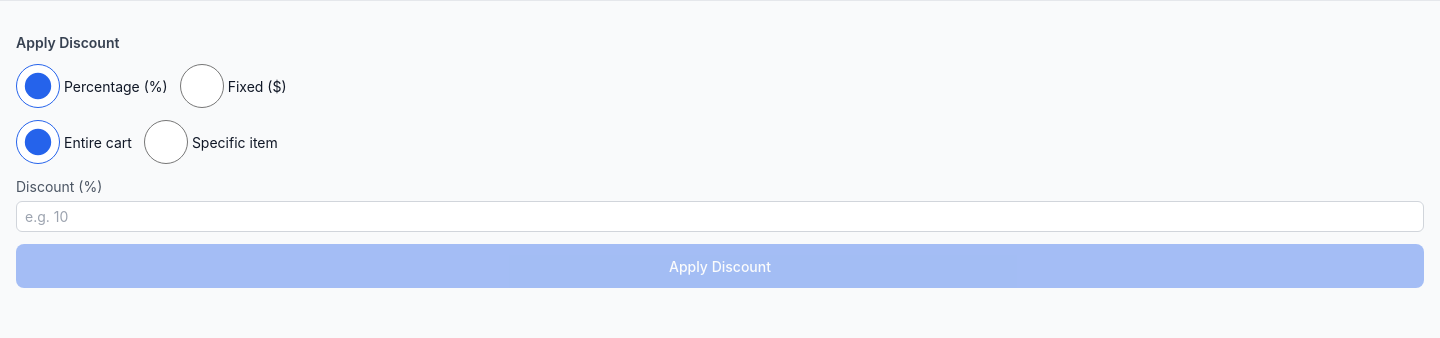
Test: ConnectedDiscountPanel – store integration › apply button is enabled when cart has items and a value is entered
Type "10" into the number field named "discount percentage".
click(720, 217); type("10")  # box [16, 201, 1424, 232]
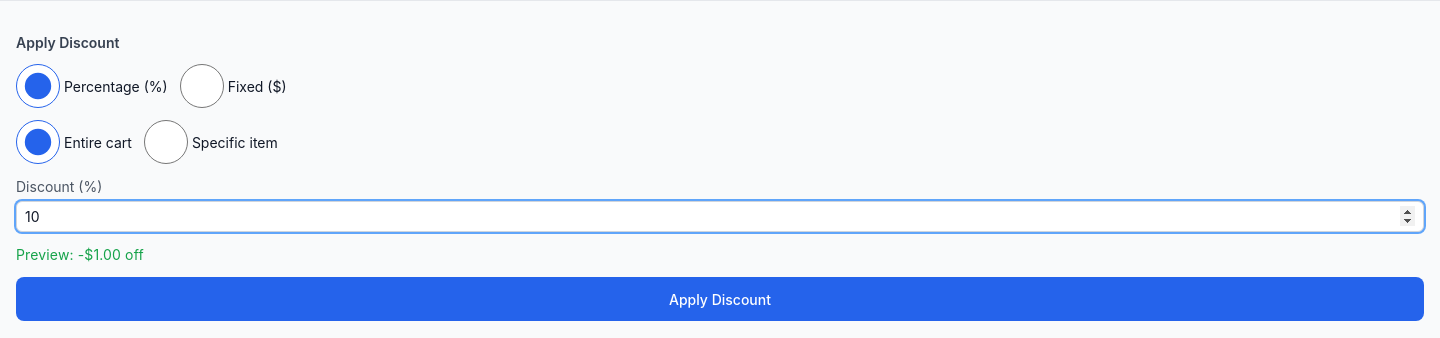
Expected: the button "Apply Discount" is enabled, [16, 277, 1424, 321]
